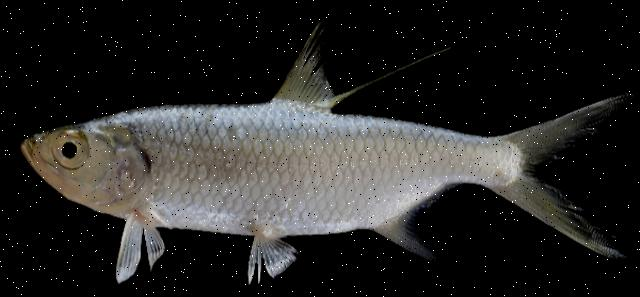Mulut: (11, 118, 59, 184)
Sirip Anal: (369, 181, 449, 270)
Sirip Dada: (101, 200, 187, 290)
Sirip Perut: (228, 210, 312, 290)
Sirip Punggung: (510, 85, 634, 269), (261, 12, 459, 122)
